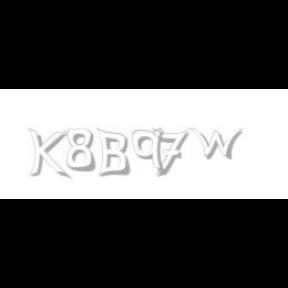7: (152, 128, 190, 178)
8: (66, 128, 96, 172)
B: (96, 128, 130, 178)
K: (28, 128, 68, 180)
q: (132, 128, 168, 176)
w: (188, 128, 248, 160)
